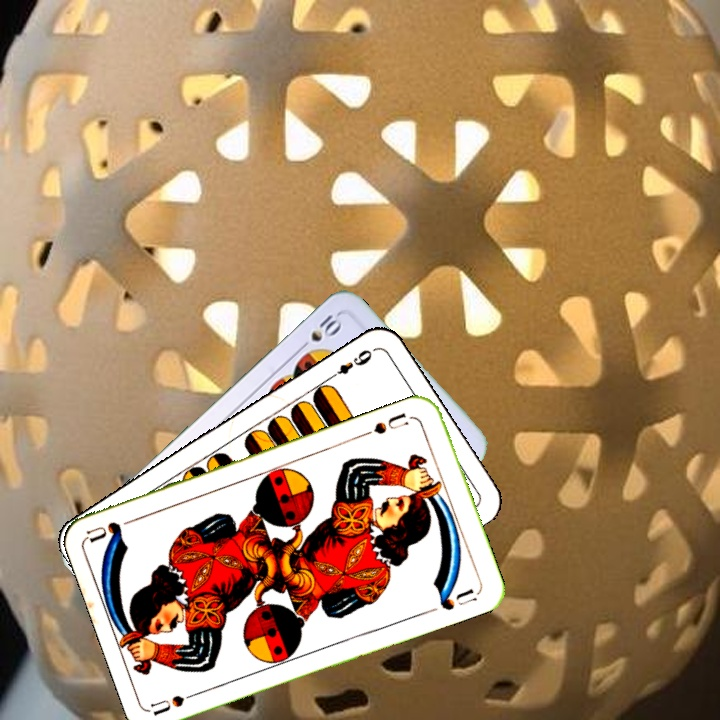E9: (324, 345, 377, 383)
S10: (294, 310, 345, 354)
SU: (148, 686, 207, 718), (359, 409, 416, 439)
